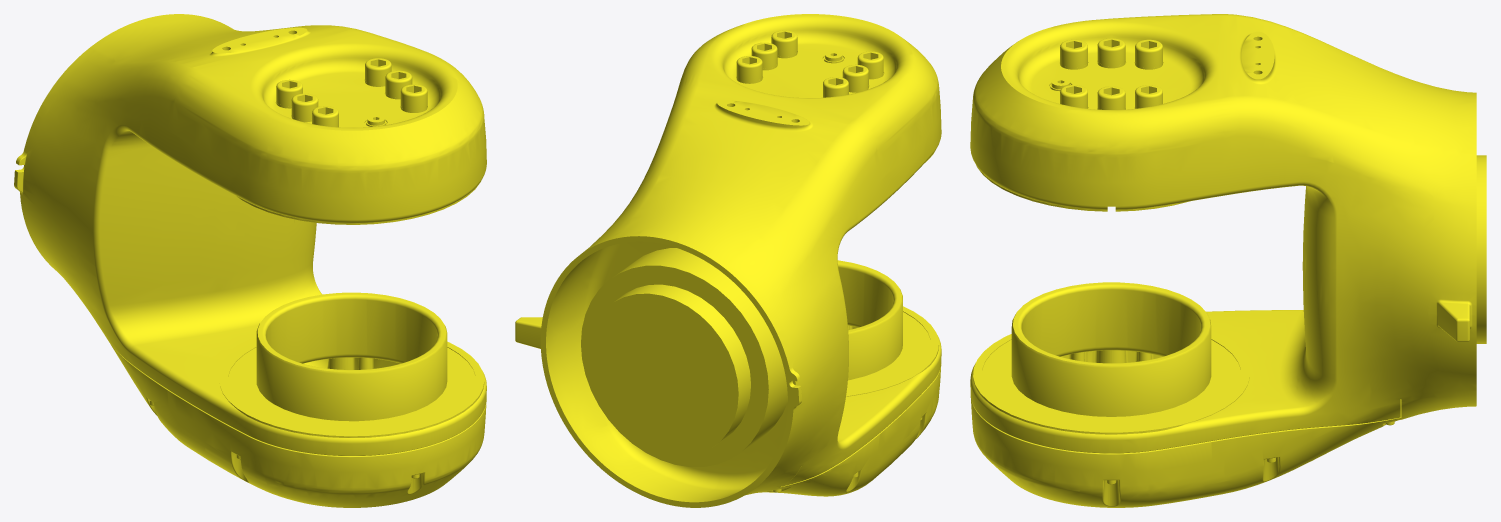
3 views of the same model, side by side, from view 1: azimuth 30°, elevation 25°; view 2: azimuth 150°, elevation 25°; view 3: azimuth 270°, elevation 25° (orthographic). The views are drawn at different scales.
Visible parts, largest first — view 1: /Link1/Link1_004-mesh/0; view 2: /Link1/Link1_004-mesh/0; view 3: /Link1/Link1_004-mesh/0.
Boxes of the visible parts, x1,y1,x2,y2 form: /Link1/Link1_004-mesh/0: [14, 14, 486, 507]; /Link1/Link1_004-mesh/0: [515, 14, 941, 507]; /Link1/Link1_004-mesh/0: [970, 14, 1486, 507].
Bounding box in the file's own units: 0.268 × 0.3267 × 0.3875.
